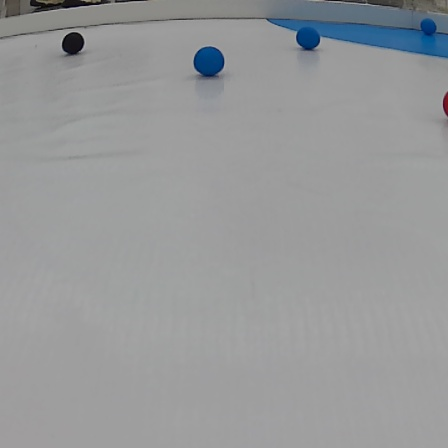black: (57, 29, 90, 56)
blue: (188, 42, 222, 79), (296, 29, 325, 52), (417, 17, 439, 42)
blue_base: (266, 10, 448, 65)
